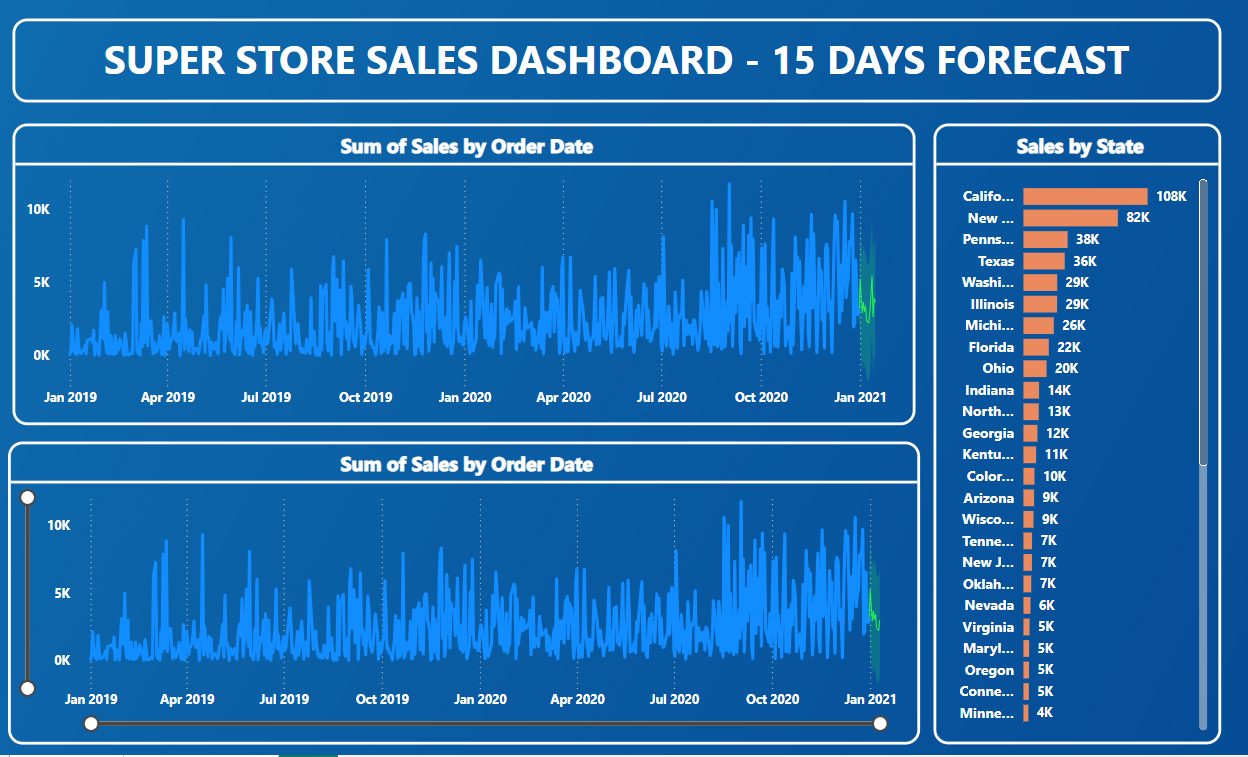

This screenshot's page, from the dashboard's own definition file:
{"tool":"powerbi","page":{"name":"Forecasting","canvas":[1280,720],"ordinal":1},"visuals":[{"type":"lineChart","fields":{"Y":["Sum(Sheet1.Sales)"],"Category":["Sheet1.Order Date"]},"box":[12.9,118.6,915.7,265.7],"z":0},{"type":"lineChart","fields":{"Y":["Sum(Sheet1.Sales)"],"Category":["Sheet1.Order Date"]},"box":[8.6,395.7,920,314.3],"z":1},{"type":"clusteredBarChart","title":"Sales by State","fields":{"Y":["Sum(Sheet1.Sales)"],"Category":["Sheet1.State"]},"box":[957.1,118.6,302.9,591.4],"z":2},{"type":"textbox","box":[12.9,18.6,1247.1,80],"z":3}]}

Visuals, with their boxes on the page's 1280x720 design canvas (x1, y1, x2, y2). These are canvas units, not pixel positions in the 1248x757 screenshot, which may show the page scaled, cropped or inside an application window:
lineChart - Sum(Sheet1.Sales) x Sheet1.Order Date: l=13, t=119, r=929, b=384
lineChart - Sum(Sheet1.Sales) x Sheet1.Order Date: l=9, t=396, r=929, b=710
"Sales by State" clusteredBarChart: l=957, t=119, r=1260, b=710
textbox: l=13, t=19, r=1260, b=99
